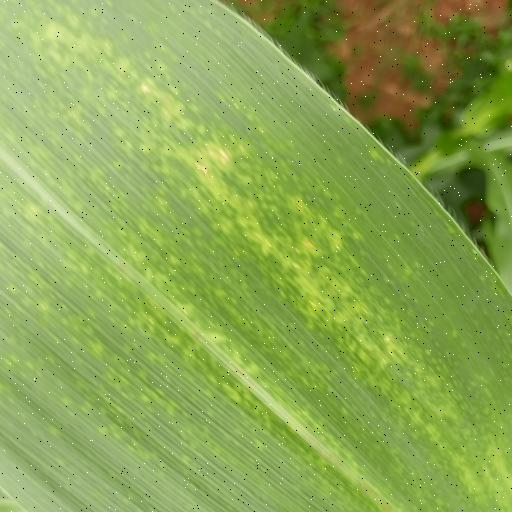Corn_Brown_Spots: (1, 0, 501, 512)
